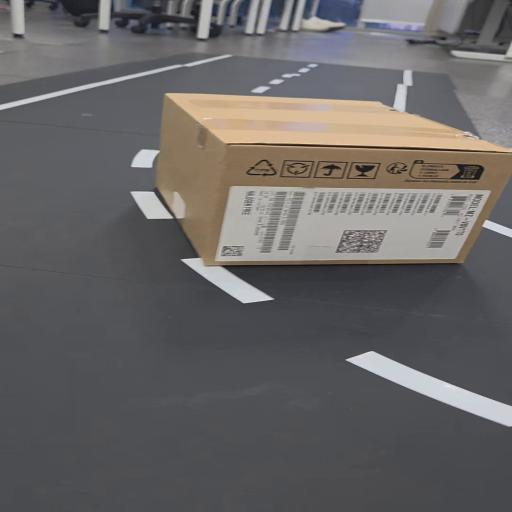Box: (149, 87, 500, 271)
